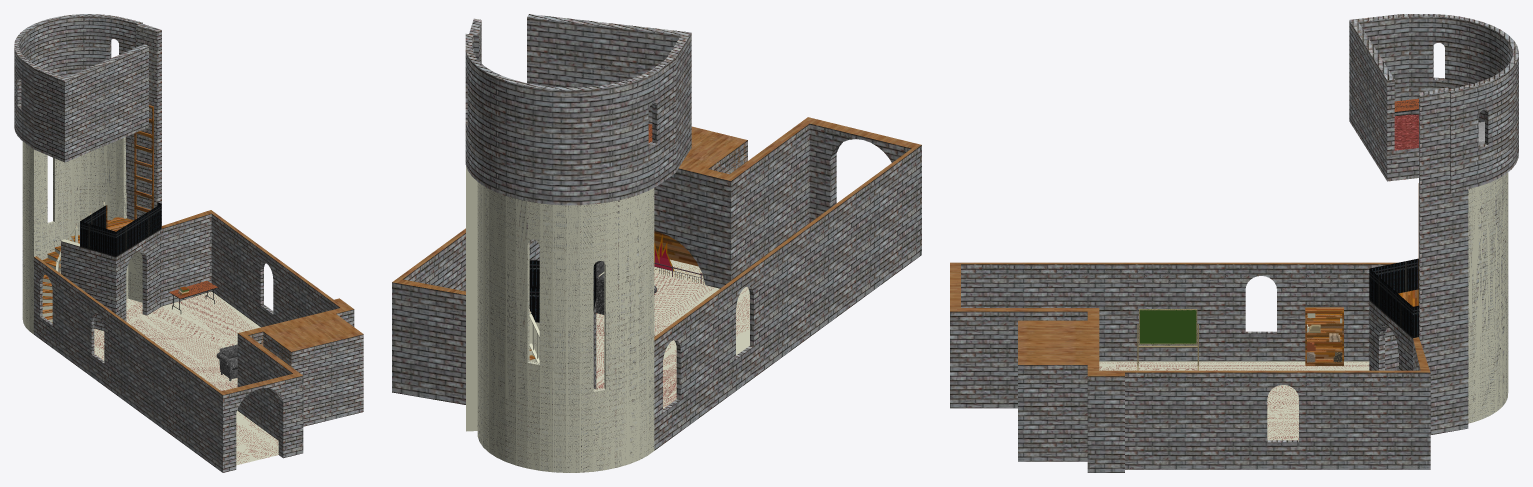
3 views of the same model, side by side, from view 1: azimuth 30°, elevation 25°; view 2: azimuth 150°, elevation 25°; view 3: azimuth 270°, elevation 25° (orthographic). The views are drawn at different scales.
Visible parts, largest first — view 1: SketchUp (×8), Component_5, ske18; view 2: SketchUp (×9); view 3: SketchUp (×7), group_0, bookshelves_48x14 (×2).
Part boxes in pixels (x1,y1,x2,y2): SketchUp (×8): [14, 14, 363, 472]; Component_5: [134, 105, 153, 219]; ske18: [216, 344, 237, 379]; SketchUp (×9): [392, 14, 921, 472]; SketchUp (×7): [950, 14, 1518, 472]; group_0: [1140, 310, 1196, 343]; bookshelves_48x14 (×2): [1305, 307, 1343, 365].
Bounding box in the file's own units: 345 × 703 × 465.
Materials: 27 (15 with a texture image).
